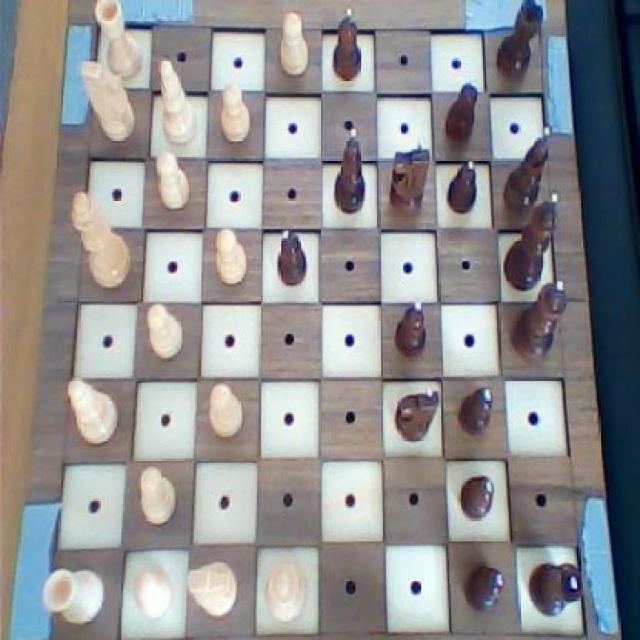bishop: (497, 121, 555, 218), (332, 122, 367, 215)
black-bishop: (502, 188, 562, 288)
black-king: (385, 135, 433, 223), (390, 382, 442, 448)
black-knight: (462, 558, 508, 616), (442, 77, 481, 145), (330, 6, 362, 83), (457, 382, 498, 442), (390, 297, 428, 360), (454, 472, 497, 522), (274, 226, 308, 289), (446, 158, 479, 218)
black-pawn: (514, 274, 571, 365)
black-queen: (491, 0, 546, 83), (528, 555, 584, 620)
black-rook: (64, 372, 124, 452), (154, 54, 201, 149)
white-bishop: (63, 186, 135, 290)
white-king: (80, 59, 140, 146), (184, 557, 240, 625)
white-knight: (202, 378, 246, 446), (150, 150, 194, 218), (131, 557, 174, 622), (145, 300, 189, 363), (210, 226, 252, 291), (279, 8, 313, 82), (217, 81, 252, 146)
white-pawn: (264, 555, 310, 624), (134, 463, 180, 527)
white-queen: (84, 0, 146, 82), (38, 560, 107, 629)
